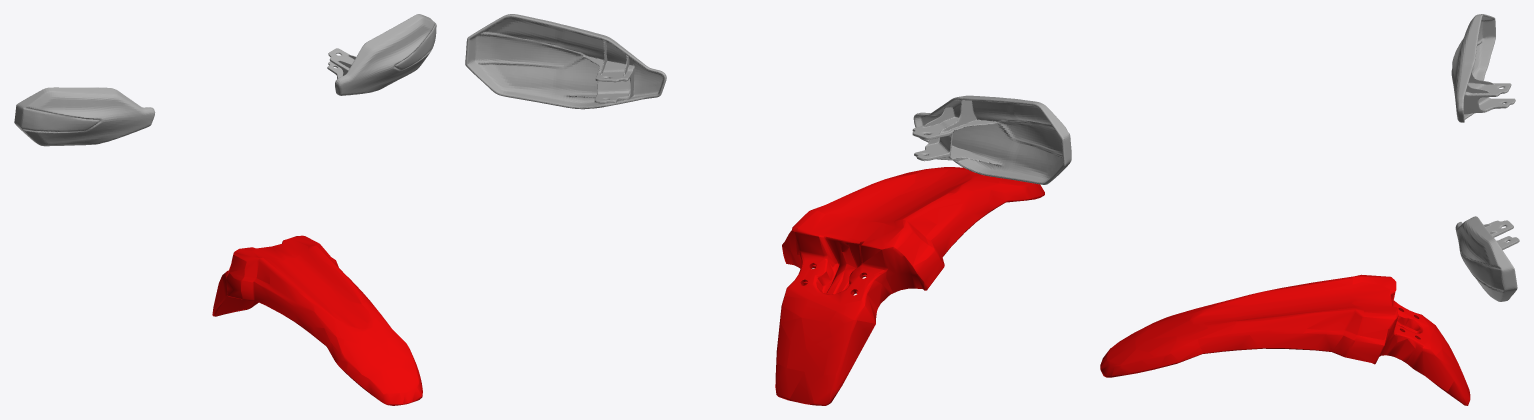
The model's file is han_backup.fbx.
3 renders of one model, left to right at view 1: azimuth 30°, elevation 25°; view 2: azimuth 150°, elevation 25°; view 3: azimuth 270°, elevation 25°, orthographic. The views are drawn at different scales.
Visible parts, largest first — view 1: polySurface91960, hand_bar1, hand_bar2; view 2: polySurface91960, hand_bar2, hand_bar1; view 3: polySurface91960, hand_bar1, hand_bar2.
Boxes of the visible parts, x1,y1,x2,y2 form: polySurface91960: (212,235,422,405); hand_bar1: (14,87,155,146); hand_bar2: (327,14,436,95); polySurface91960: (775,167,1044,405); hand_bar2: (465,14,666,109); hand_bar1: (912,95,1071,184); polySurface91960: (1100,274,1470,405); hand_bar1: (1451,14,1515,122); hand_bar2: (1455,216,1519,301).
Size of the model in its own units: 2.5 by 1.48 by 1.95.
